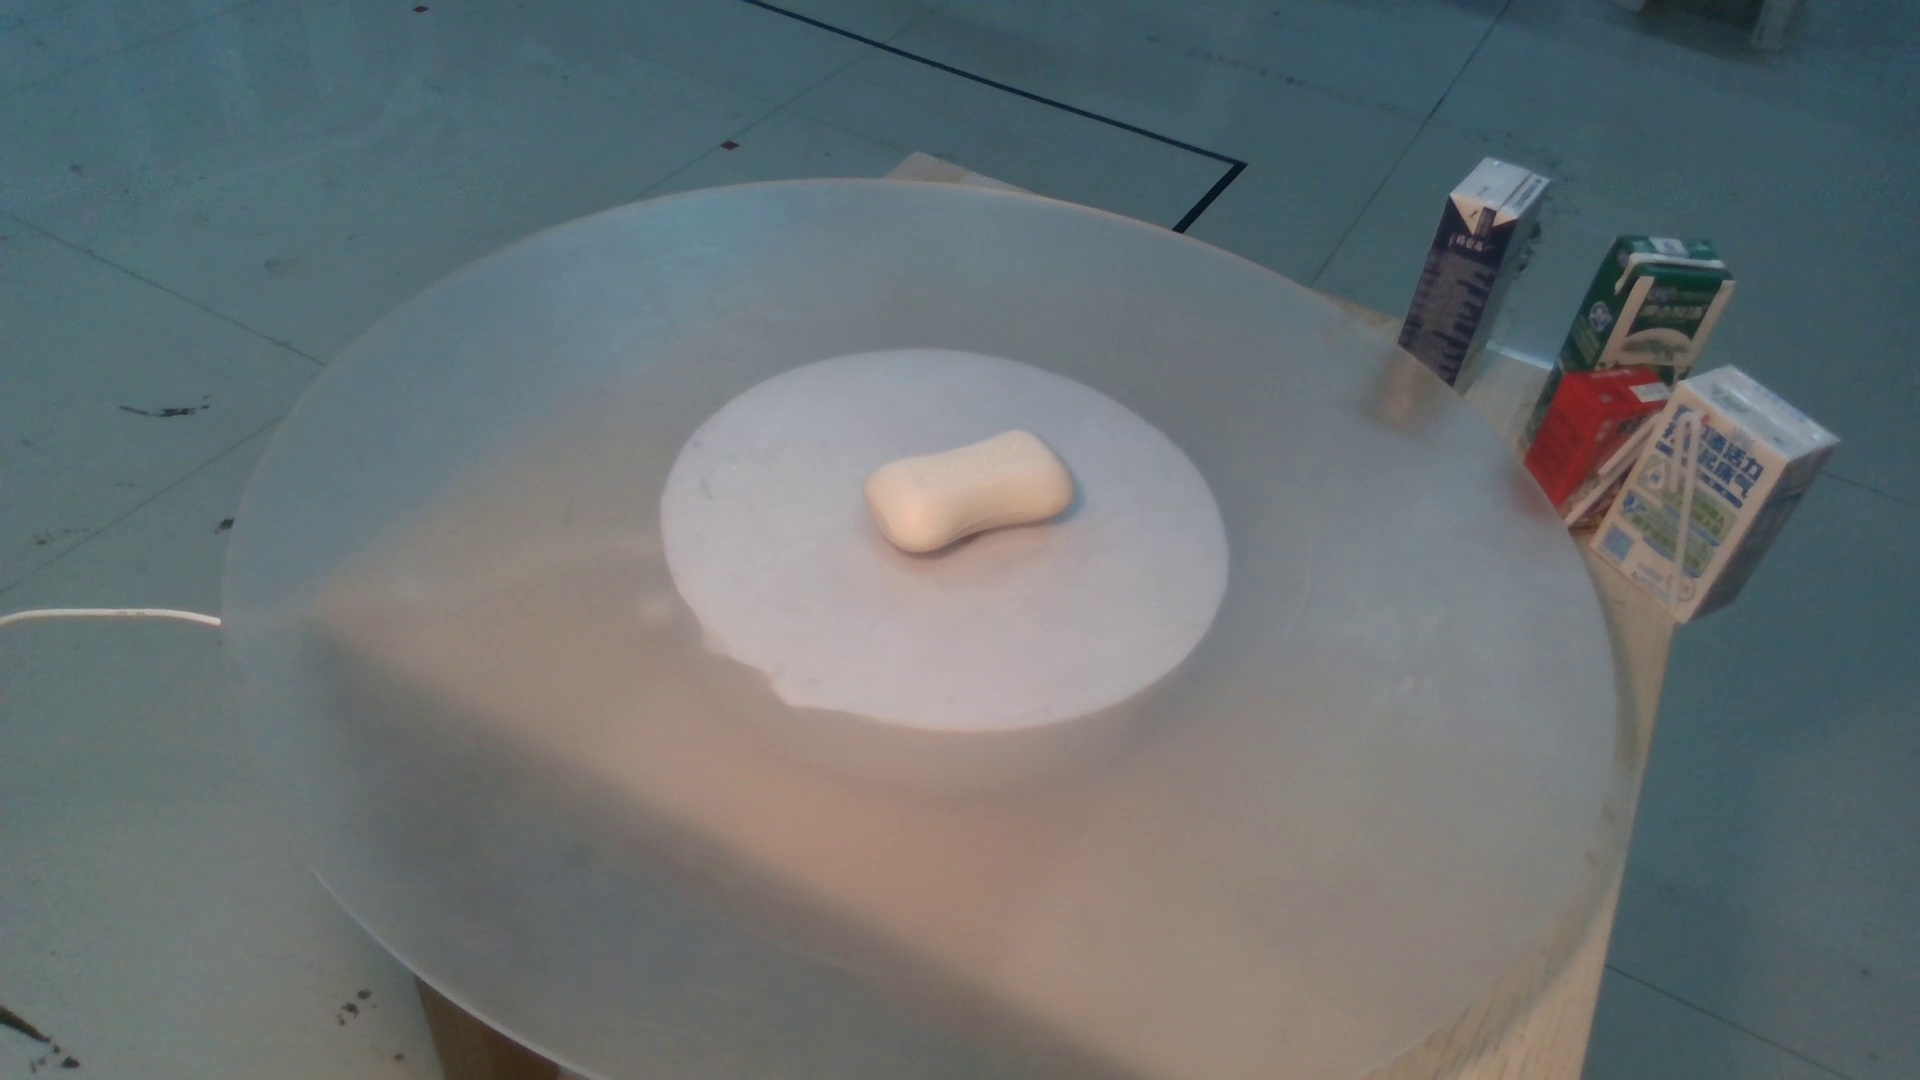CA003_1: (825, 404, 1139, 600)
